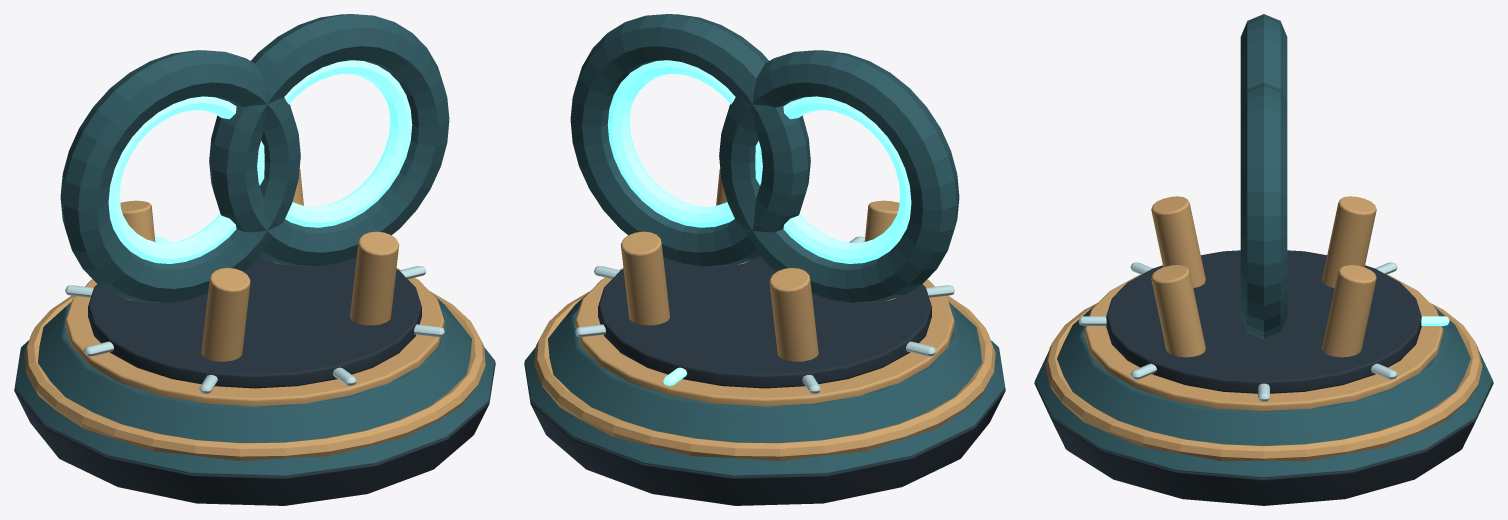
File: tangler.glb
3 renders of one model, left to right at view 1: azimuth 30°, elevation 25°; view 2: azimuth 150°, elevation 25°; view 3: azimuth 270°, elevation 25°, orthographic. The views are drawn at different scales.
Visible parts, largest first — view 1: tangler; view 2: tangler; view 3: tangler.
Part boxes in pixels (left/top/right/bottom): tangler: left=14, top=14, right=495, bottom=505; tangler: left=524, top=14, right=1005, bottom=505; tangler: left=1034, top=14, right=1493, bottom=505.
Size of the model in its own units: 1.08 by 0.921 by 1.08.
